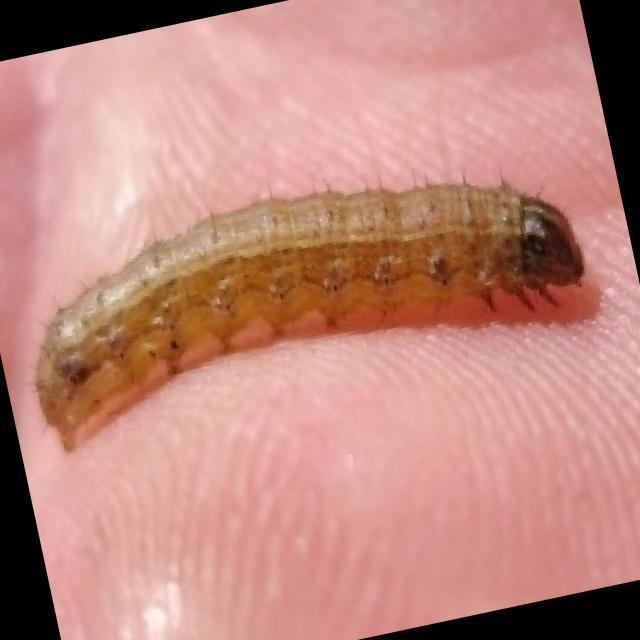Plaga: (1, 108, 617, 472)
